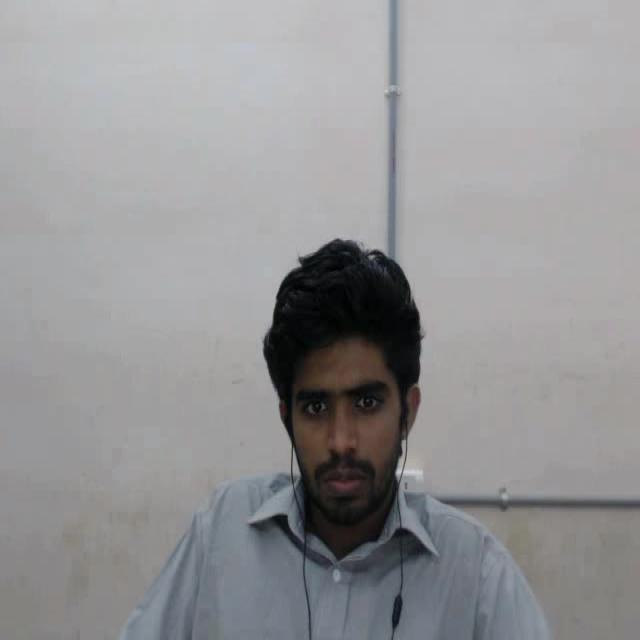Engaged: (242, 177, 456, 560)
